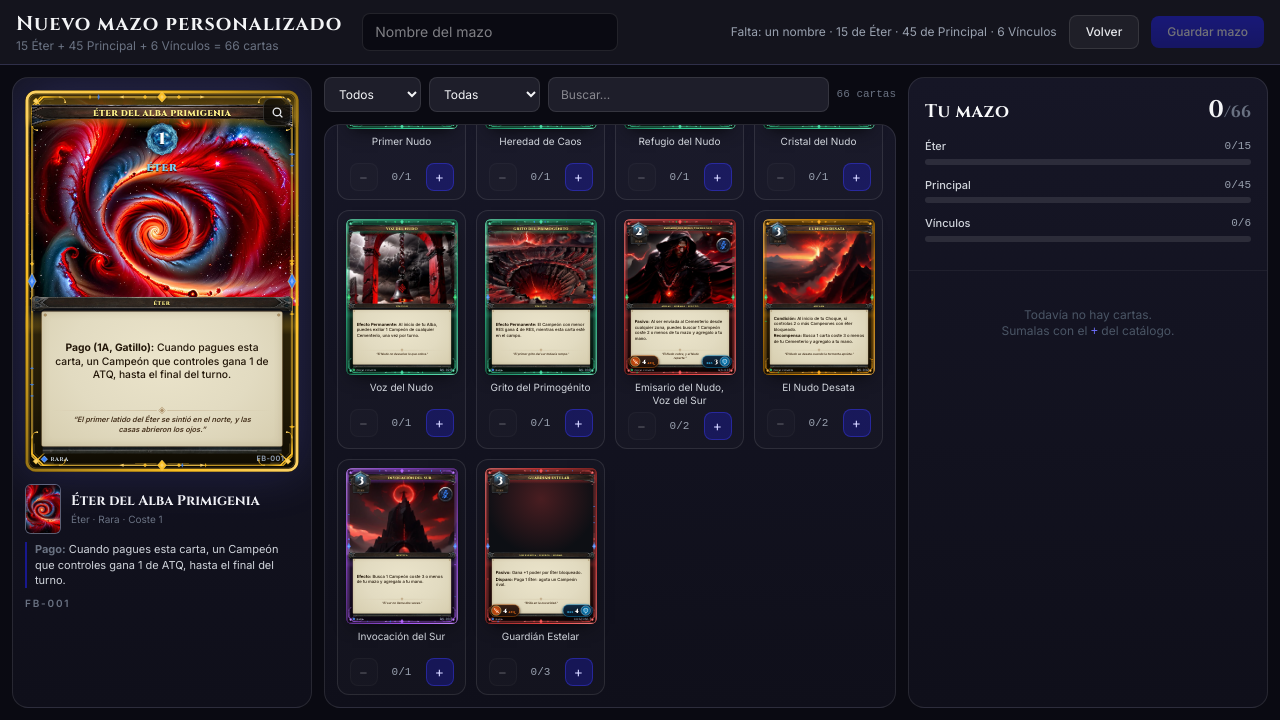
it: MazoEditor › muestra coste, ATQ/RES y efectos en el detalle de un Campeón
(page scrolled)
Step 1. Click the element named "Agregar copia de Guardián Estelar" → x=540, y=577, box [476,459,605,695]
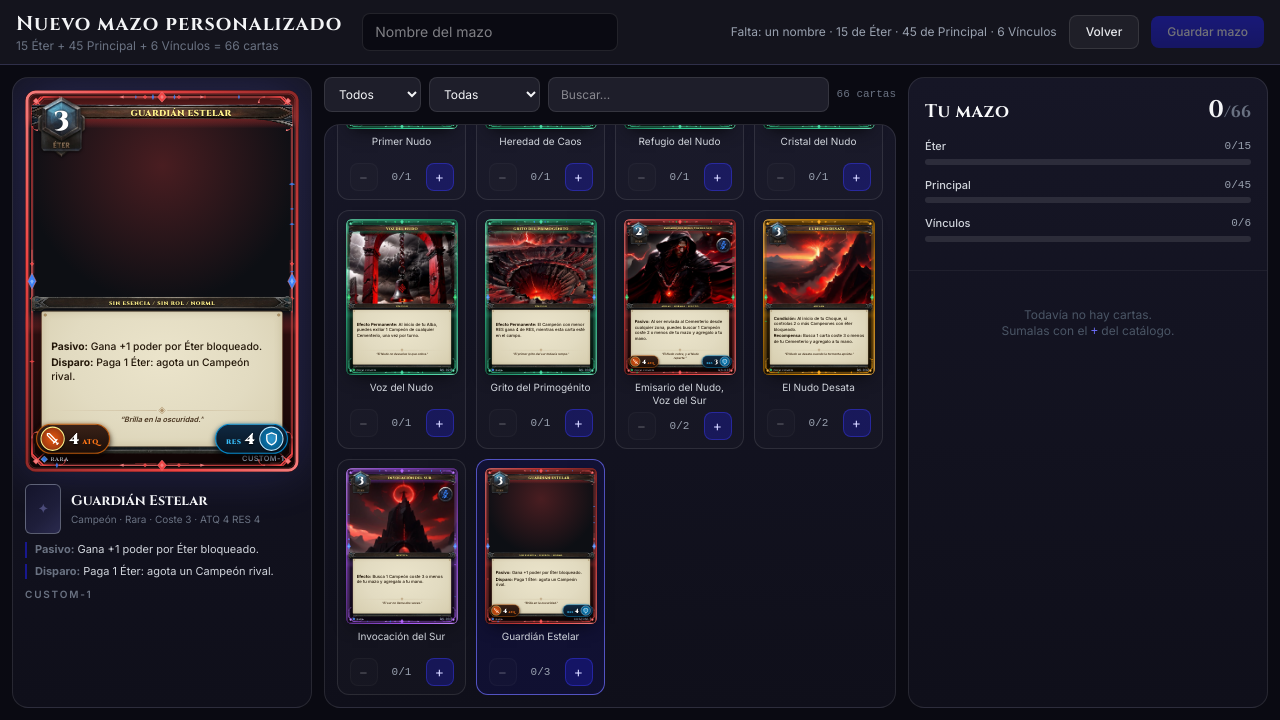
Now the text "Pasivo:" below "· Coste 3" is shown, box [35,542,74,556]
Now the text "Disparo:" below "· Coste 3" is shown, box [35,564,80,578]
Now the text "Gana +1 poder por Éter bloqueado." is shown, box [78,542,259,556]
